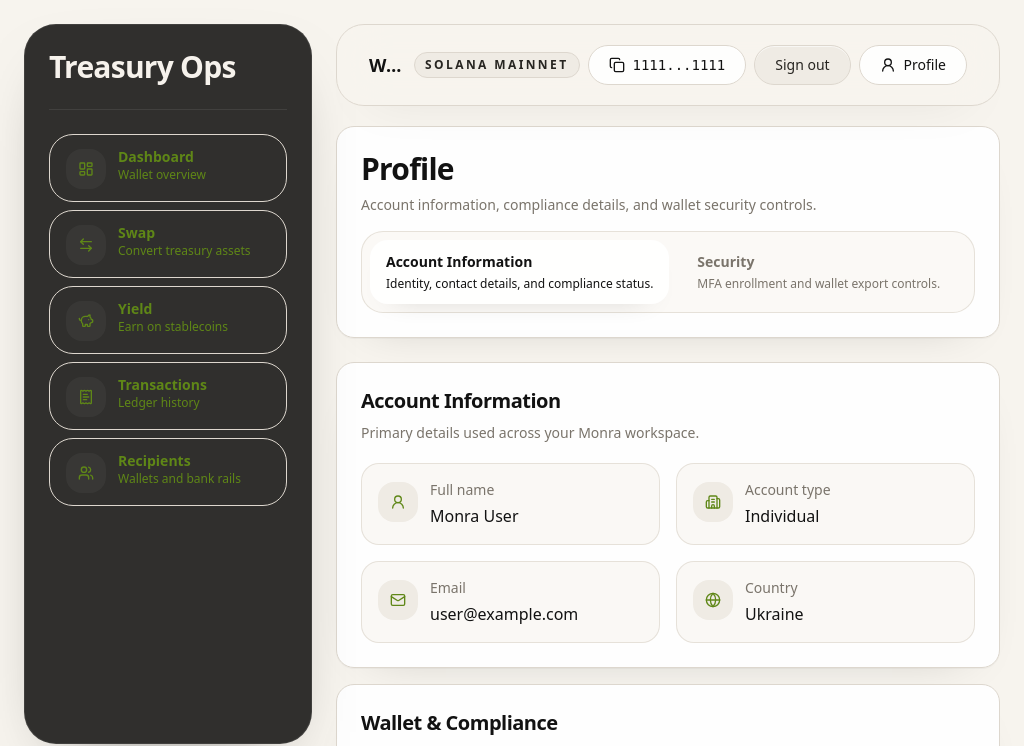
Test: ProfilePage › renders enrolled MFA state without the enrollment CTA
The width and height of the screenshot is (1024, 746).
Click the tab "Security MFA enrollment and wallet export controls.": point(819, 272) [681, 240, 956, 304]
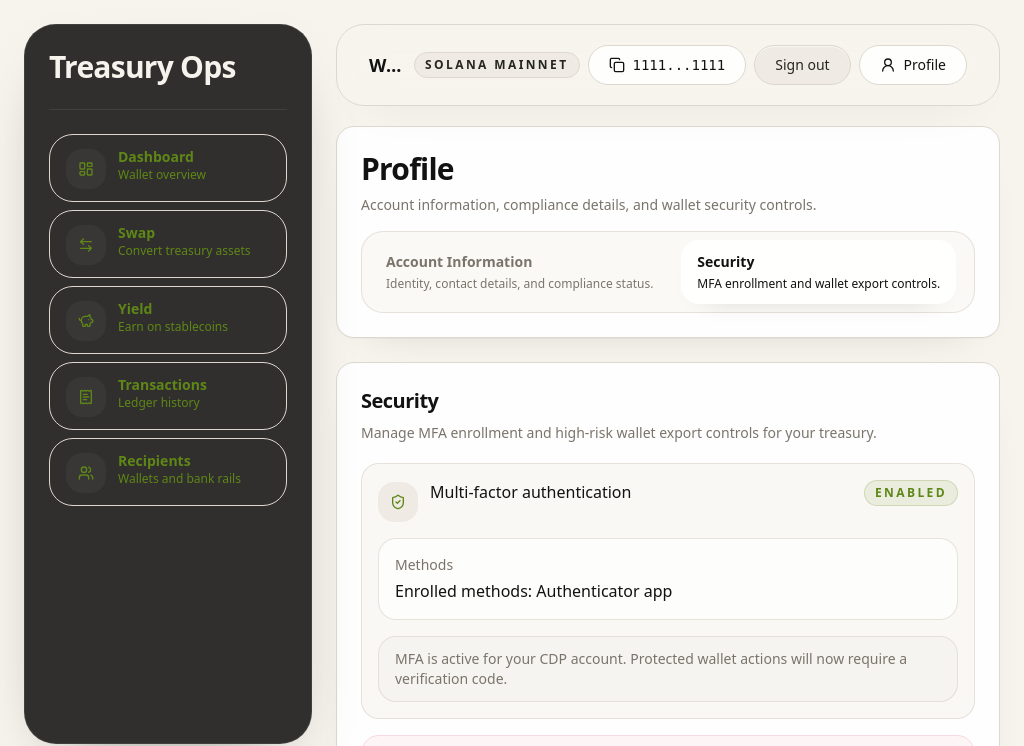
Result: the text "Enabled" is shown at [864, 480, 958, 506]
Result: the text "Enrolled methods: Authenticator app" is shown at [395, 580, 672, 602]
